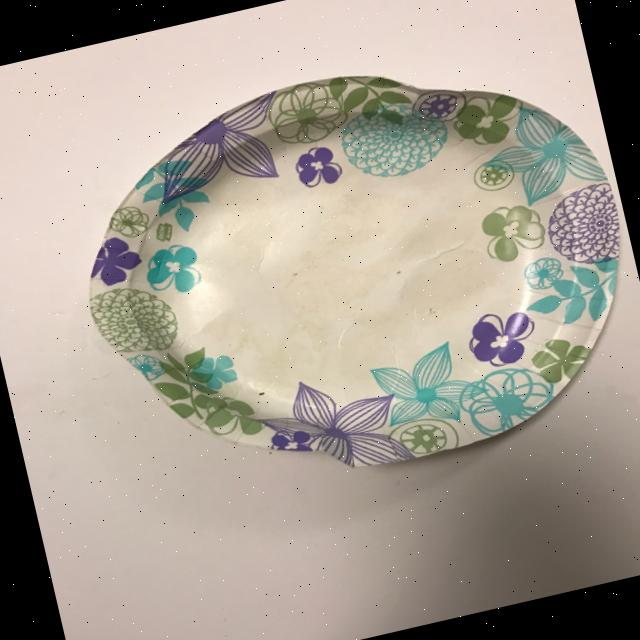paper: (49, 19, 640, 523)
